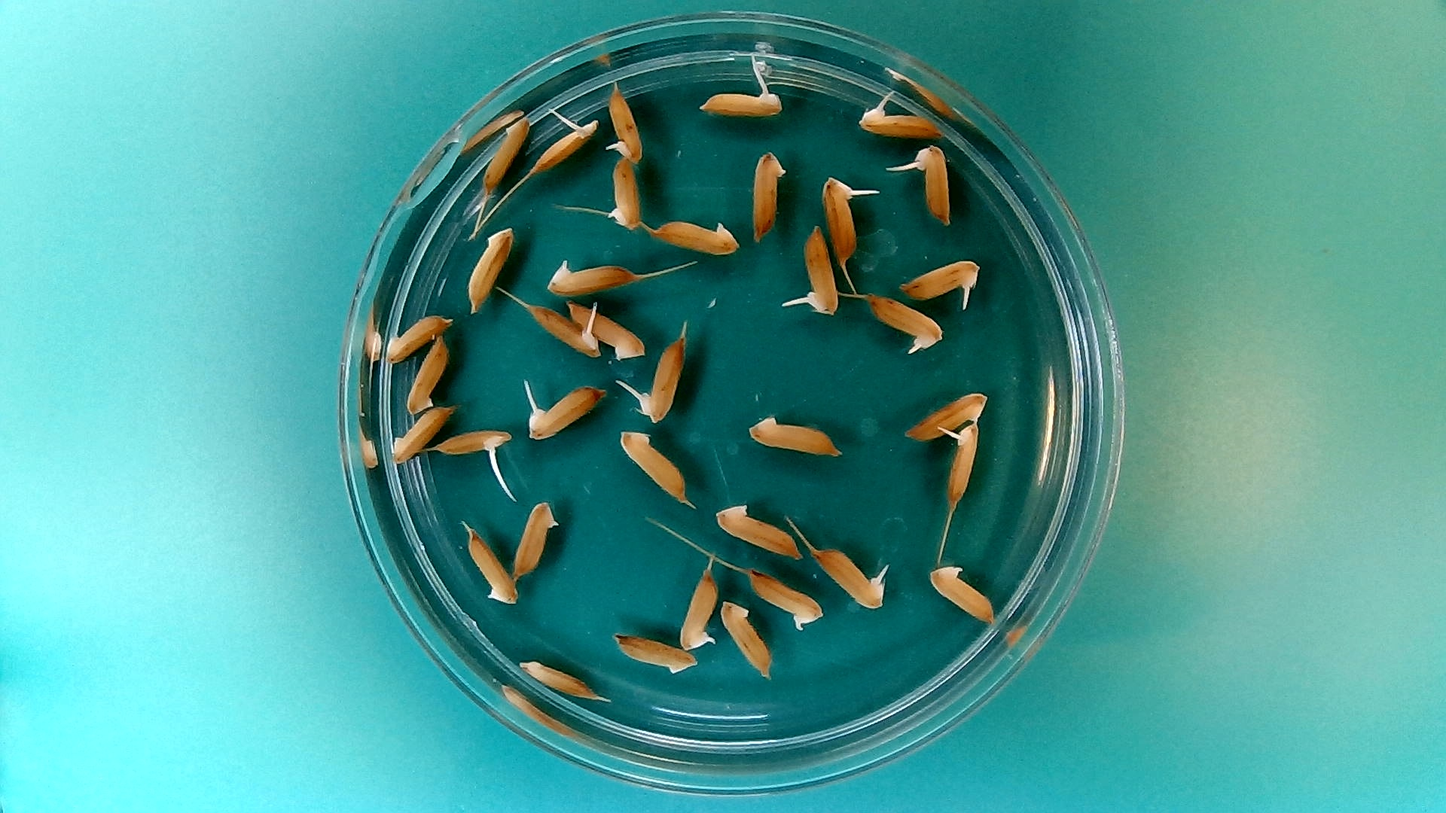no: (615, 429, 694, 510), (711, 498, 805, 561), (901, 386, 990, 443), (718, 595, 776, 681), (463, 222, 517, 313), (745, 409, 845, 458), (566, 303, 648, 362), (383, 401, 458, 463), (464, 524, 520, 607), (745, 145, 791, 245), (480, 111, 534, 196), (610, 629, 698, 678), (650, 214, 745, 258), (512, 495, 561, 580), (382, 307, 455, 364), (516, 655, 604, 701), (931, 564, 996, 626), (404, 333, 450, 415), (602, 157, 644, 233)
yes: (864, 290, 947, 355), (523, 376, 602, 441), (816, 548, 888, 612), (744, 567, 821, 626), (642, 327, 688, 425), (529, 308, 602, 360), (677, 566, 721, 652), (942, 417, 983, 507), (819, 177, 859, 269), (899, 257, 982, 301), (531, 118, 596, 174), (604, 79, 645, 165), (800, 230, 840, 318), (914, 143, 954, 226), (544, 260, 630, 297), (857, 104, 940, 138), (703, 86, 781, 119), (440, 429, 512, 459)
